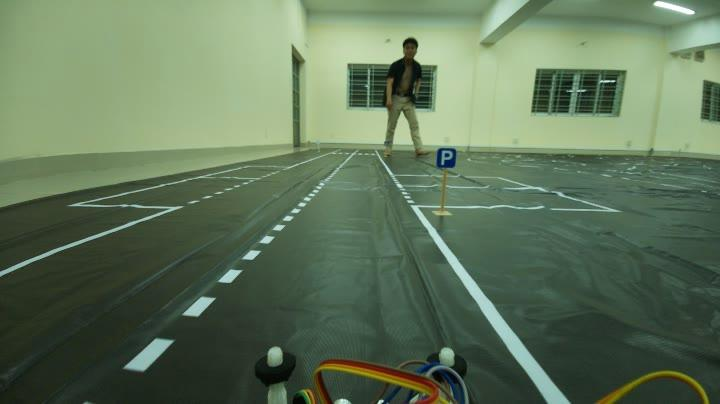parking: (434, 142, 459, 169)
